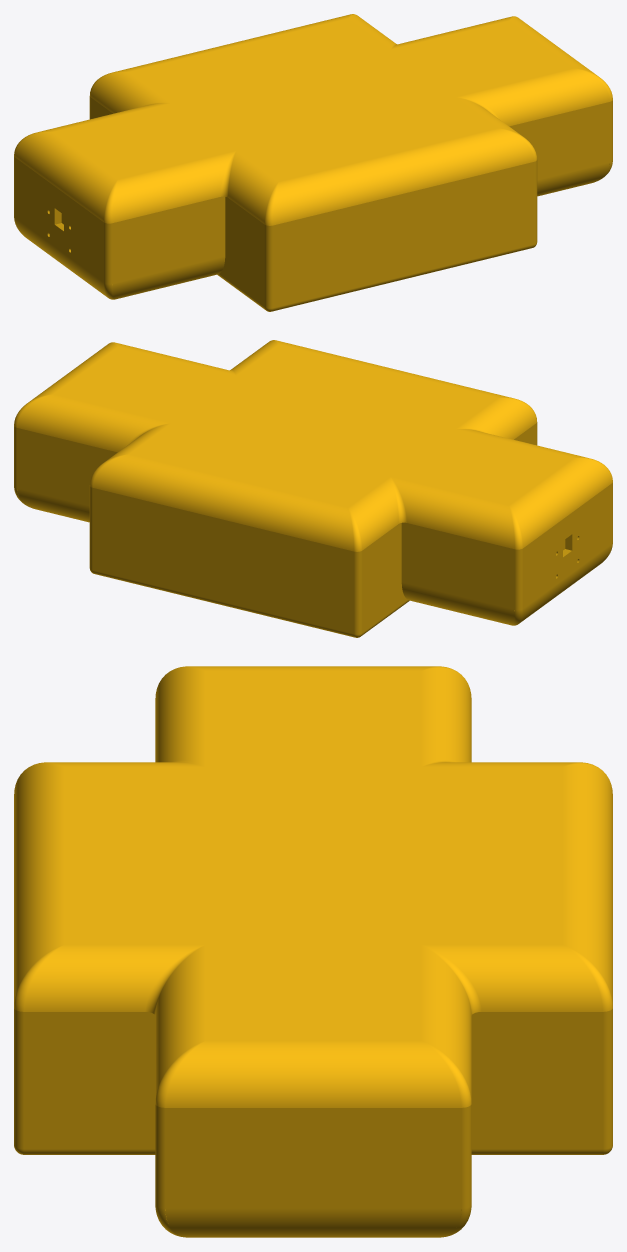
The picture shows the model from 3 angles, top to bottom: view 1: azimuth 30°, elevation 25°; view 2: azimuth 150°, elevation 25°; view 3: azimuth 270°, elevation 25°; orthographic projection. The views are drawn at different scales.
Parts seen in each view (by area): view 1: Part 1 (×2); view 2: Part 1 (×2); view 3: Part 1 (×2).
Boxes of the visible parts, x1,y1,x2,y2 form: Part 1 (×2): (14,14,612,311); Part 1 (×2): (14,340,612,637); Part 1 (×2): (14,666,612,1237).
Bounding box in the file's own units: 0.29 × 0.178 × 0.063.
